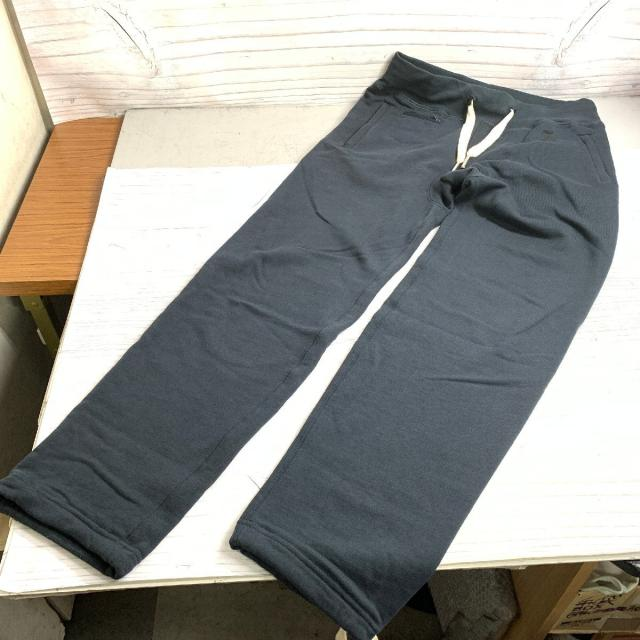long-pants: (0, 50, 619, 640)
